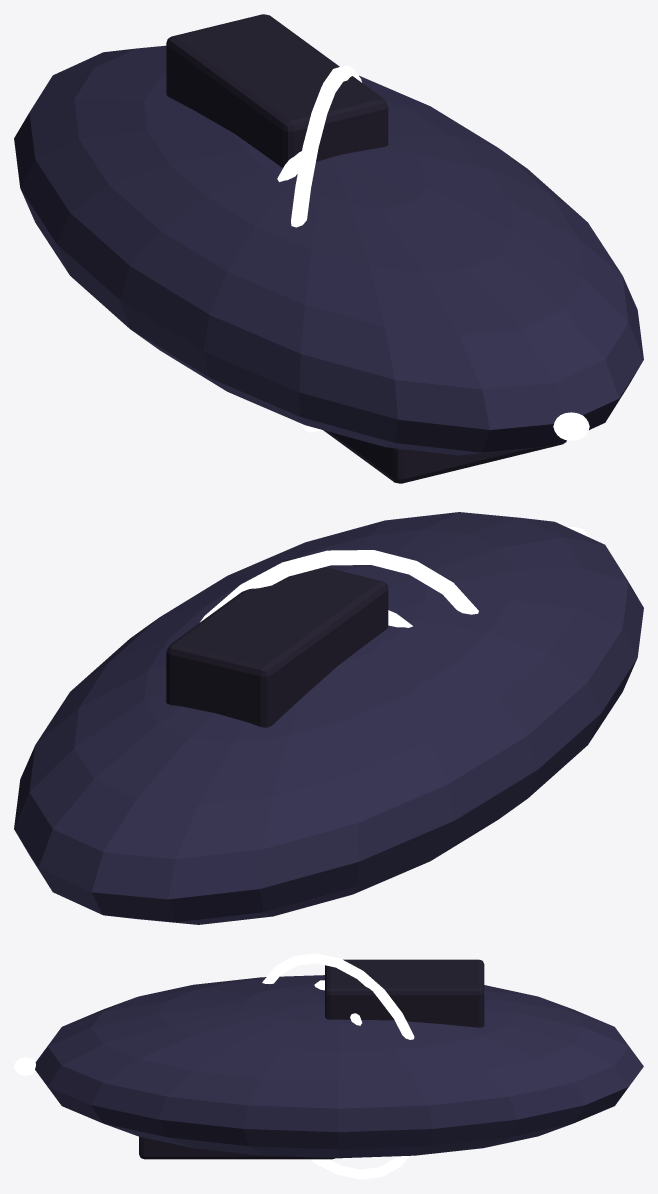
3 views of the same model, one above another, from view 1: azimuth 30°, elevation 25°; view 2: azimuth 150°, elevation 25°; view 3: azimuth 270°, elevation 25° (orthographic). The views are drawn at different scales.
Parts seen in each view (by area): view 1: RIMWARD_HULL, RIMWARD_EMISSIVE, RIMWARD_ENGINE_GLOW; view 2: RIMWARD_HULL, RIMWARD_EMISSIVE; view 3: RIMWARD_HULL, RIMWARD_EMISSIVE, RIMWARD_ENGINE_GLOW.
Part boxes in pixels (left/top/right/bottom): RIMWARD_HULL: left=14, top=14, right=643, bottom=483; RIMWARD_EMISSIVE: left=277, top=65, right=361, bottom=432; RIMWARD_ENGINE_GLOW: left=553, top=412, right=589, bottom=440; RIMWARD_HULL: left=14, top=512, right=643, bottom=924; RIMWARD_EMISSIVE: left=200, top=550, right=478, bottom=627; RIMWARD_HULL: left=35, top=959, right=643, bottom=1159; RIMWARD_EMISSIVE: left=262, top=953, right=414, bottom=1179; RIMWARD_ENGINE_GLOW: left=14, top=1057, right=35, bottom=1075.
Bounding box in the file's own units: 14.98 × 11.48 × 30.34.
